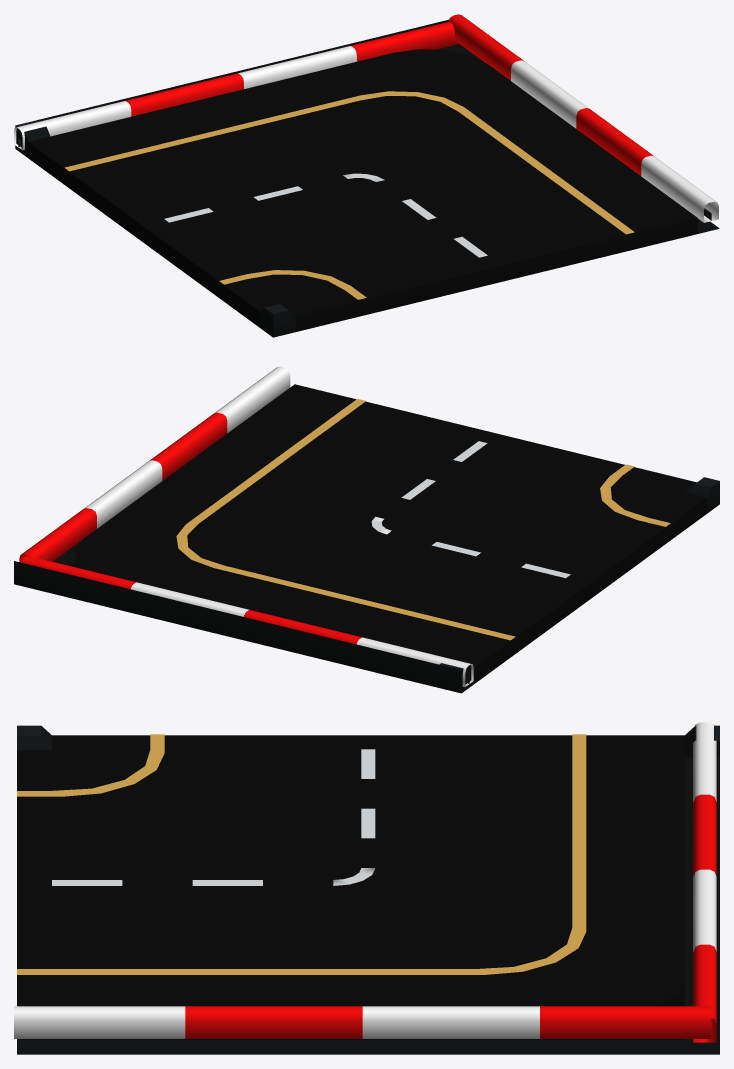
3 renders of one model, top to bottom at view 1: azimuth 30°, elevation 25°; view 2: azimuth 150°, elevation 25°; view 3: azimuth 270°, elevation 25°, orthographic. The views are drawn at different scales.
Visible parts, largest first — view 1: road_corner_Cube.948_road_corner_Cube.948, StraightTrack01_Cube.001_StraightTrack01_Cube.001-Mesh.002, StraightTrack01_Cube.002_StraightTrack01_Cube.001-Mesh.001; view 2: road_corner_Cube.948_road_corner_Cube.948, StraightTrack01_Cube.001_StraightTrack01_Cube.001-Mesh.002, StraightTrack01_Cube.002_StraightTrack01_Cube.001-Mesh.001; view 3: road_corner_Cube.948_road_corner_Cube.948, StraightTrack01_Cube.001_StraightTrack01_Cube.001-Mesh.002, StraightTrack01_Cube.002_StraightTrack01_Cube.001-Mesh.001.
Part boxes in pixels (<box>): road_corner_Cube.948_road_corner_Cube.948: <box>15,19,719,337</box>; StraightTrack01_Cube.001_StraightTrack01_Cube.001-Mesh.002: <box>448,14,718,222</box>; StraightTrack01_Cube.002_StraightTrack01_Cube.001-Mesh.001: <box>14,22,458,150</box>; road_corner_Cube.948_road_corner_Cube.948: <box>14,384,719,693</box>; StraightTrack01_Cube.001_StraightTrack01_Cube.001-Mesh.002: <box>19,366,290,562</box>; StraightTrack01_Cube.002_StraightTrack01_Cube.001-Mesh.001: <box>22,555,473,686</box>; road_corner_Cube.948_road_corner_Cube.948: <box>17,725,719,1054</box>; StraightTrack01_Cube.001_StraightTrack01_Cube.001-Mesh.002: <box>14,1006,711,1038</box>; StraightTrack01_Cube.002_StraightTrack01_Cube.001-Mesh.001: <box>693,722,716,1042</box>.
Bounding box in the file's own units: 2.01 × 0.1261 × 2.01.
